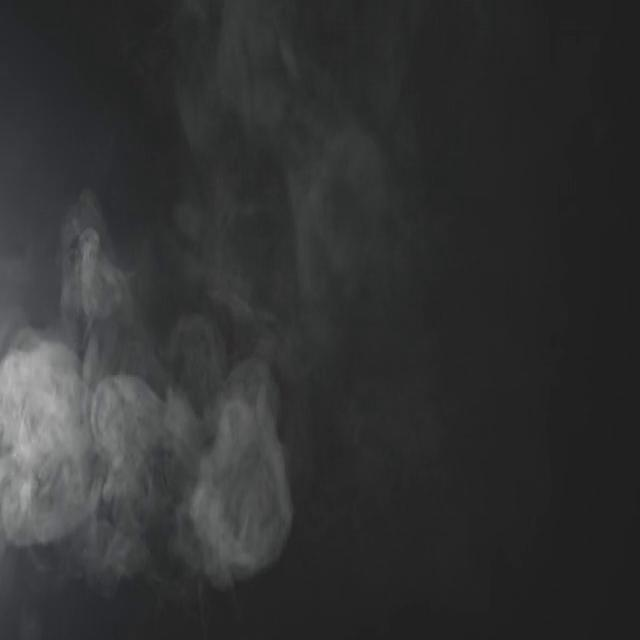smoke: (1, 348, 83, 539), (72, 236, 150, 376), (228, 55, 310, 166), (163, 330, 263, 420), (302, 136, 370, 242), (213, 436, 278, 546), (206, 348, 267, 442), (166, 516, 250, 584), (89, 398, 139, 509), (146, 413, 200, 501), (96, 517, 140, 594)
